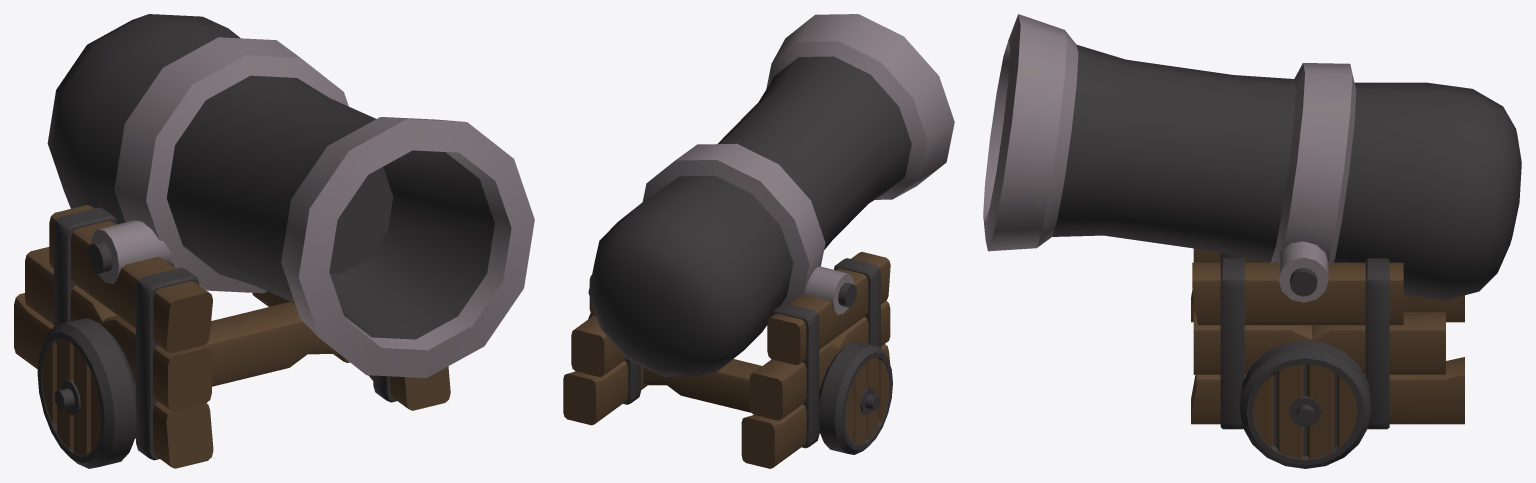
File: Canon.obj
3 renders of one model, left to right at view 1: azimuth 30°, elevation 25°; view 2: azimuth 150°, elevation 25°; view 3: azimuth 270°, elevation 25°, orthographic. The views are drawn at different scales.
Size of the model in its own units: 1.04 by 1.13 by 1.48.
Materials: 1 (1 with a texture image).
